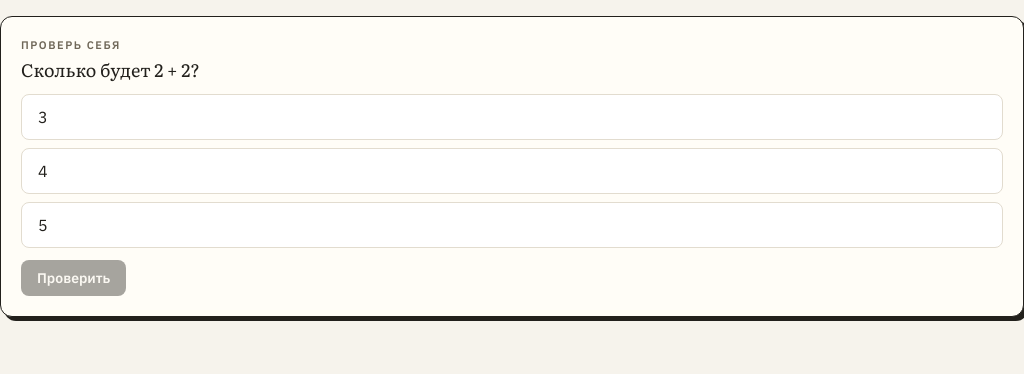
Check with options › passes on the right answer and shows the explanation
Click the radio button labelled "4" at (43, 171), box [21,148,1003,194]
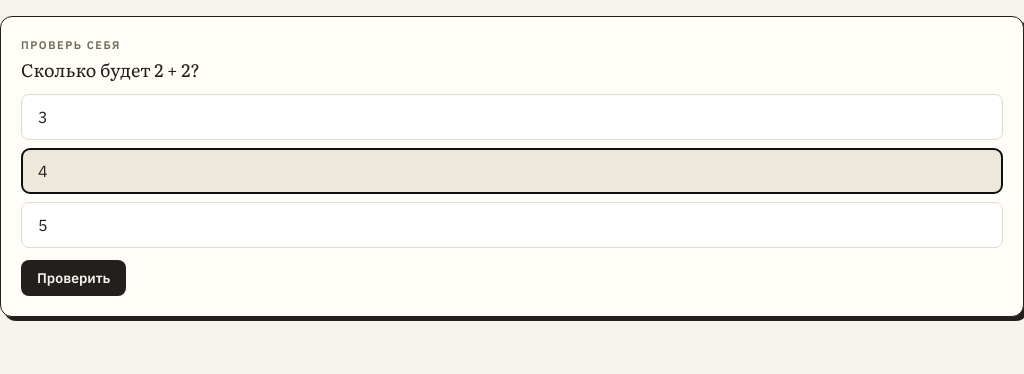
Click the button "Проверить" at (74, 278), box [21,260,126,296]
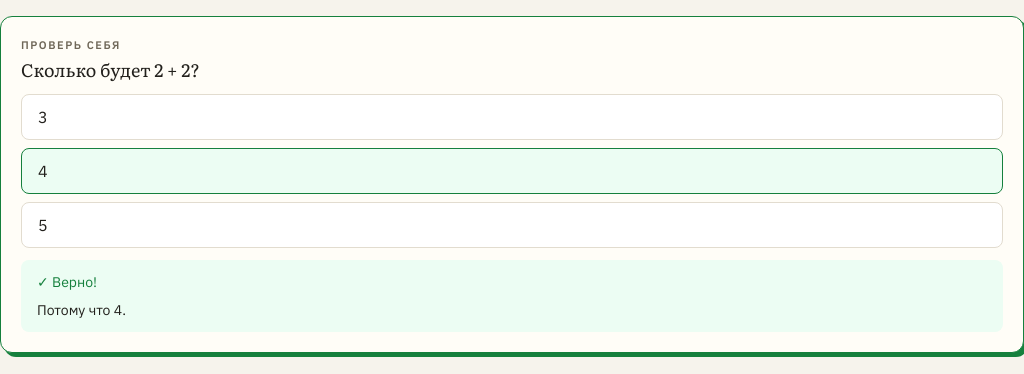
Expected: the text "✓ Верно!" is shown, [37,273,97,291]
Expected: the text "Потому что 4." is shown, [37,301,126,319]
